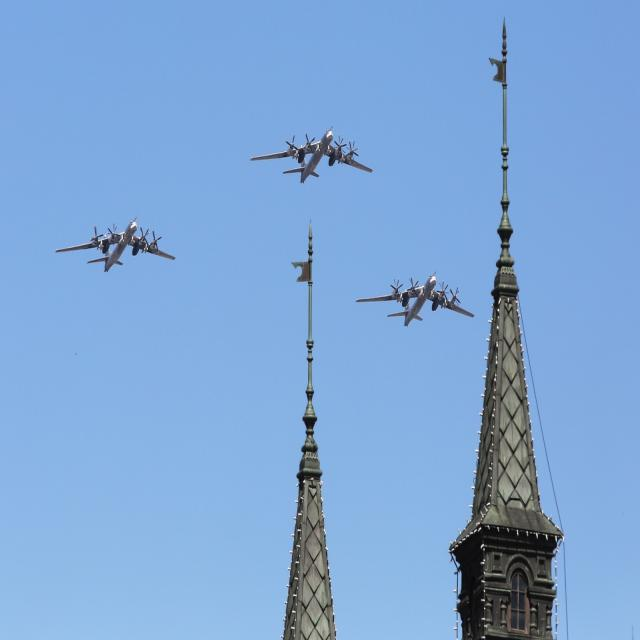MIL_Plane: (249, 125, 374, 183), (55, 216, 176, 273), (355, 270, 475, 327)
